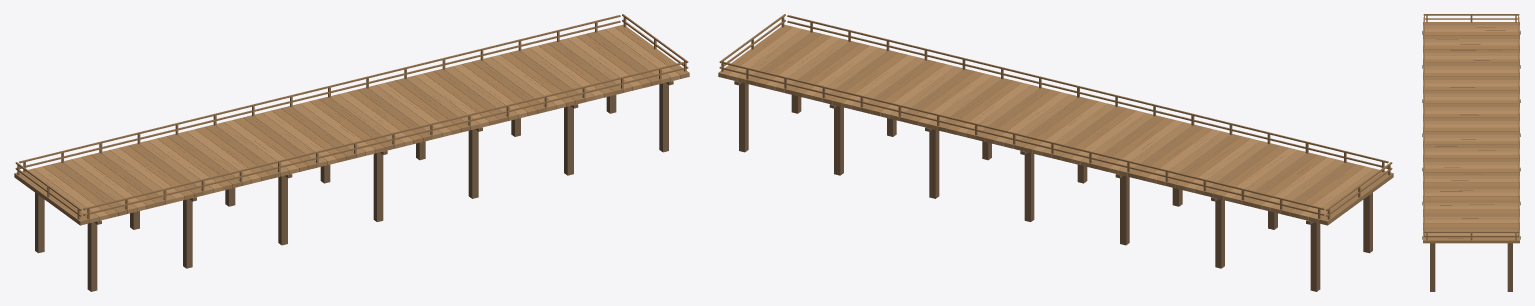
The model's file is spectator-stage.glb.
3 views of the same model, side by side, from view 1: azimuth 30°, elevation 25°; view 2: azimuth 150°, elevation 25°; view 3: azimuth 270°, elevation 25° (orthographic). The views are drawn at different scales.
Visible parts, largest first — view 1: spectator-stage; view 2: spectator-stage; view 3: spectator-stage.
Boxes of the visible parts, <box> form: spectator-stage: <box>14,14,689,291</box>; spectator-stage: <box>718,14,1393,291</box>; spectator-stage: <box>1422,14,1520,291</box>.
Size of the model in its own units: 63.97 by 8.92 by 12.2.
